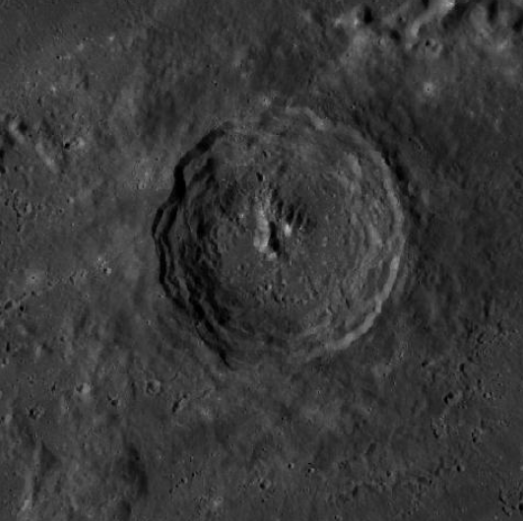crater: (119, 76, 450, 438)
